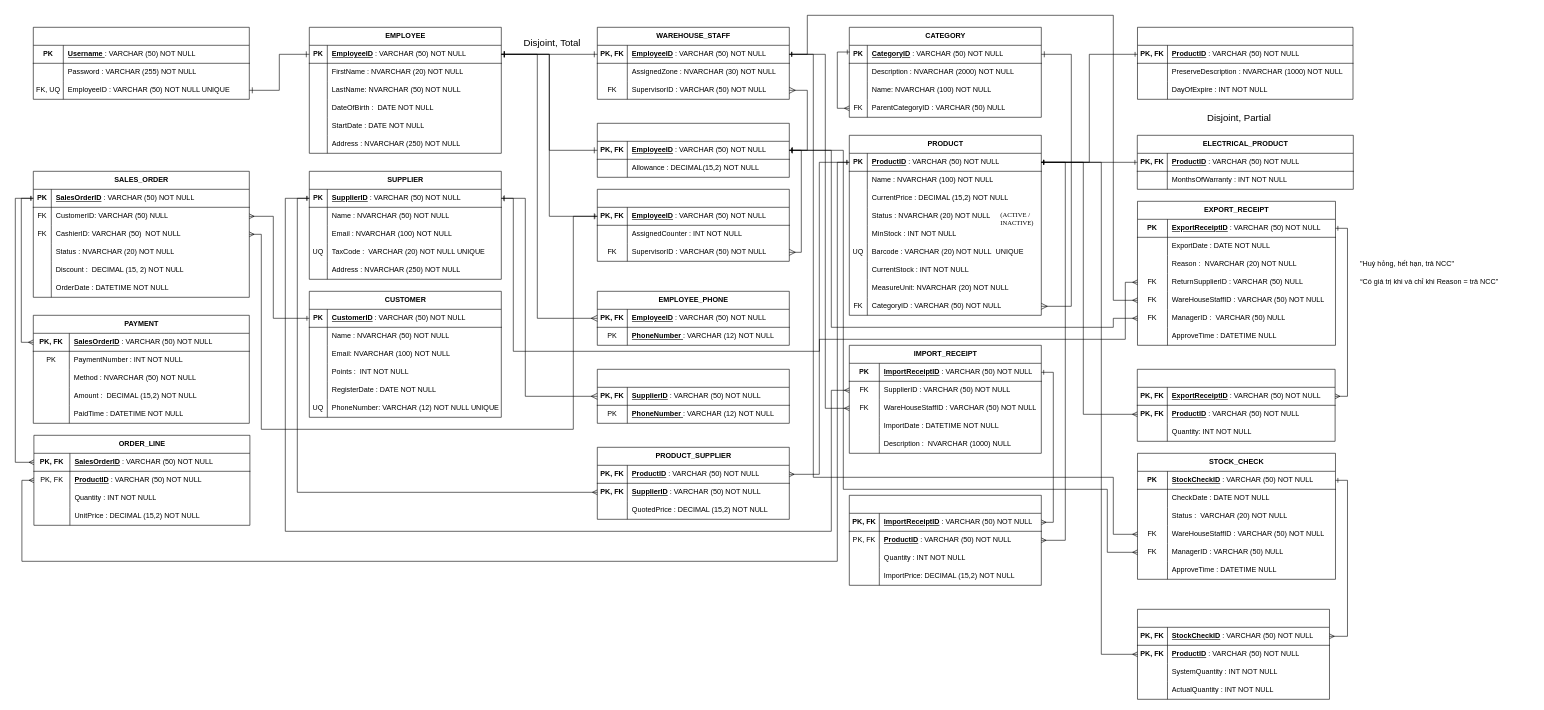
Image size: 1544x710. Some labels were removed from this diagram. The box of each missing label's shape, as (x1, y1, x2, y2) in pixels:
ACCOUNT: (33, 27, 249, 99)
CASHIER: (597, 189, 789, 261)
EXPORT_FROM: (1137, 369, 1335, 441)
FOOD_PRODUCT: (1137, 27, 1353, 99)
IMPORT_DETAIL: (849, 495, 1041, 585)
MANAGER: (597, 123, 789, 177)
STOCK_CHECK_DETAIL: (1137, 609, 1329, 699)
SUPPLIER_PHONE: (597, 369, 789, 423)
